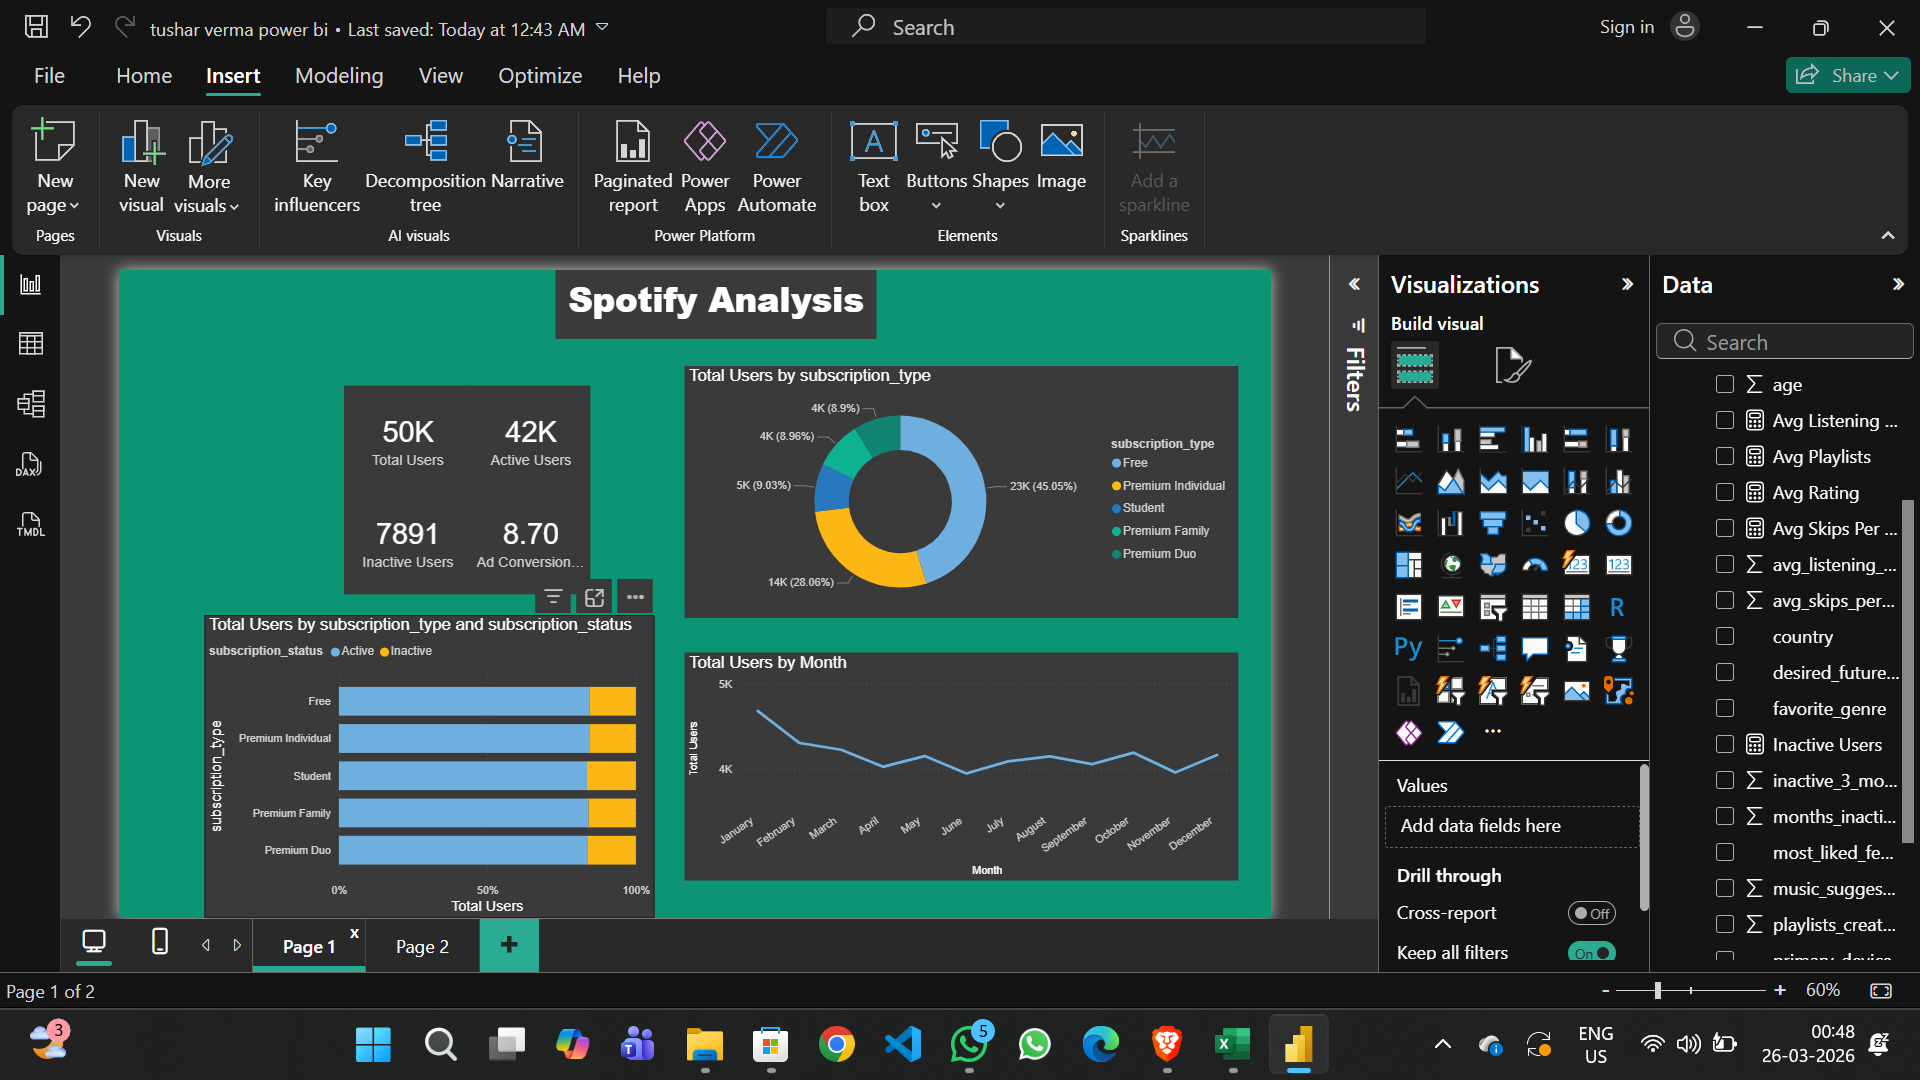

Layout of this report page (visuals, bound fields, positions):
{"tool":"powerbi","page":{"name":"Page 1","canvas":[1280,720],"ordinal":0},"visuals":[{"type":"card","fields":{"Values":["spotify_user_behavior_realistic_50000_rows.Total Users"]},"box":[250,128.3,141.7,118.3],"z":0},{"type":"card","fields":{"Values":["spotify_user_behavior_realistic_50000_rows.Active Users"]},"box":[391.7,128.3,131.7,118.3],"z":1000},{"type":"card","fields":{"Values":["spotify_user_behavior_realistic_50000_rows.Inactive Users"]},"box":[250,241.7,141.7,118.3],"z":2000},{"type":"card","fields":{"Values":["spotify_user_behavior_realistic_50000_rows.Ad Conversion Rate %"]},"box":[391.7,241.7,131.7,118.3],"z":3000},{"type":"donutChart","fields":{"Category":["spotify_user_behavior_realistic_50000_rows.subscription_type"],"Y":["spotify_user_behavior_realistic_50000_rows.Total Users"]},"box":[628.3,106.7,615,280],"z":4000},{"type":"hundredPercentStackedBarChart","fields":{"Category":["spotify_user_behavior_realistic_50000_rows.subscription_type"],"Y":["spotify_user_behavior_realistic_50000_rows.Total Users"],"Series":["spotify_user_behavior_realistic_50000_rows.subscription_status"]},"box":[95,383.3,500,336.7],"z":5000},{"type":"lineChart","fields":{"Category":["spotify_user_behavior_realistic_50000_rows.signup_date.Variation.Date Hierarchy.Month"],"Y":["spotify_user_behavior_realistic_50000_rows.Total Users"]},"box":[628.3,425,615,253.3],"z":6000},{"type":"textbox","box":[485,0,356.7,76.7],"z":7000}]}

Visuals, with their boxes on the page's 1280x720 design canvas (x1, y1, x2, y2). These are canvas units, not pixel positions in the 1920x1080 screenshot, which may show the page scaled, cropped or inside an application window:
card - spotify_user_behavior_realistic_50000_rows.Total Users: 250, 128, 392, 247
card - spotify_user_behavior_realistic_50000_rows.Active Users: 392, 128, 523, 247
card - spotify_user_behavior_realistic_50000_rows.Inactive Users: 250, 242, 392, 360
card - spotify_user_behavior_realistic_50000_rows.Ad Conversion Rate %: 392, 242, 523, 360
donutChart - spotify_user_behavior_realistic_50000_rows.subscription_type x spotify_user_behavior_realistic_50000_rows.Total Users: 628, 107, 1243, 387
hundredPercentStackedBarChart - spotify_user_behavior_realistic_50000_rows.subscription_type x spotify_user_behavior_realistic_50000_rows.Total Users: 95, 383, 595, 720
lineChart - spotify_user_behavior_realistic_50000_rows.signup_date.Variation.Date Hierarchy.Month x spotify_user_behavior_realistic_50000_rows.Total Users: 628, 425, 1243, 678
textbox: 485, 0, 842, 77
